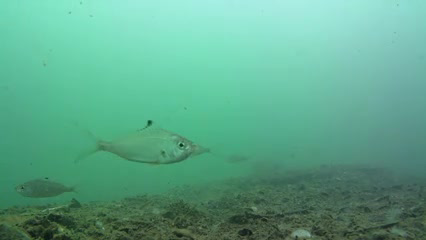smallfish: (81, 119, 199, 165)
